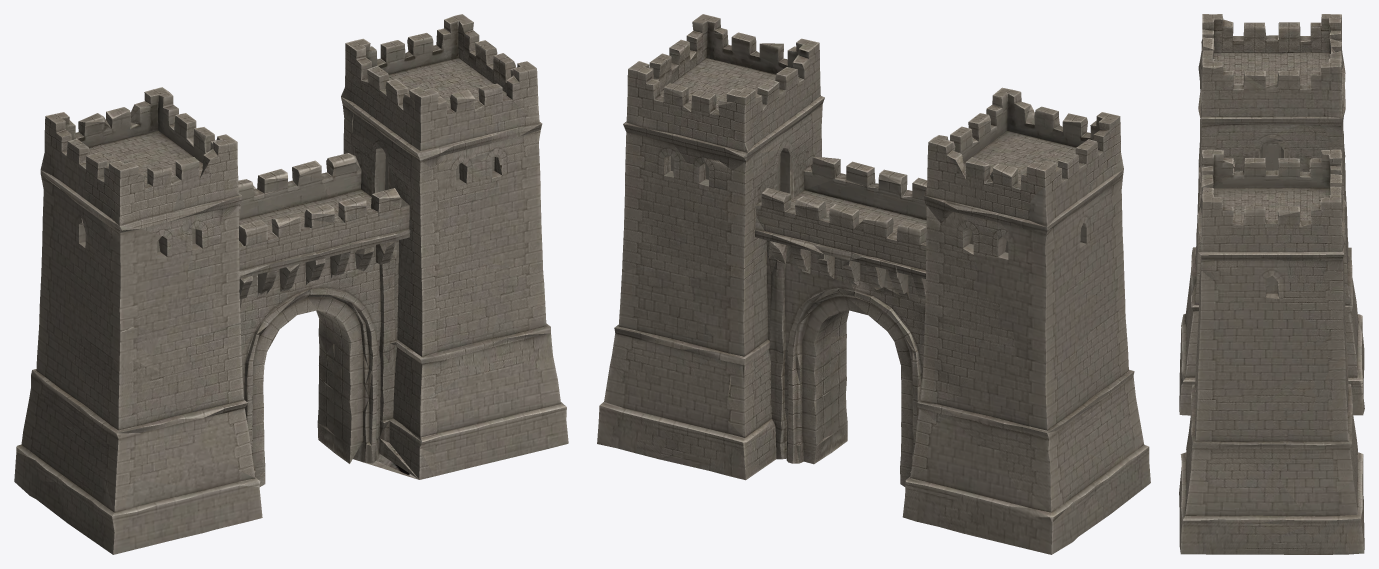
Rendered from main_gate.glb.
3 renders of one model, left to right at view 1: azimuth 30°, elevation 25°; view 2: azimuth 150°, elevation 25°; view 3: azimuth 270°, elevation 25°, orthographic. The views are drawn at different scales.
Visible parts, largest first — view 1: output_unwrapped; view 2: output_unwrapped; view 3: output_unwrapped.
Boxes of the visible parts, box(x1,y1,x2,y2) form: output_unwrapped: box(14, 14, 568, 554); output_unwrapped: box(597, 14, 1150, 554); output_unwrapped: box(1179, 14, 1364, 554).
Size of the model in its own units: 1.9 by 1.47 by 0.7184.
1 material, 1 textured.
